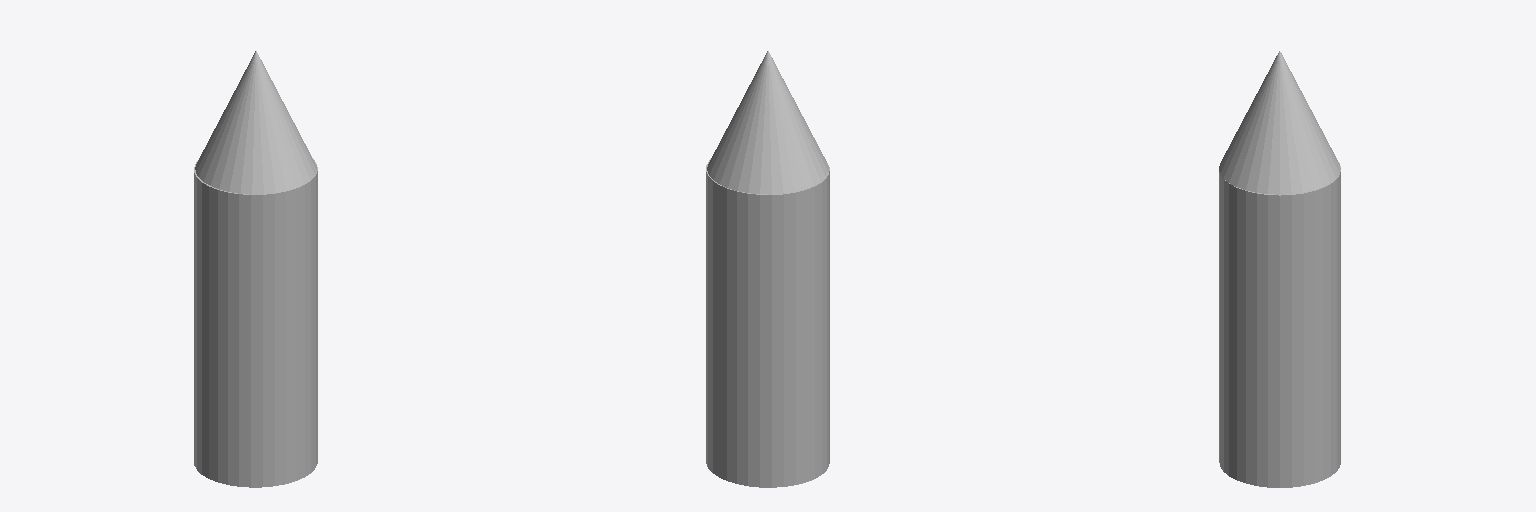
Rendered from bullet.obj.
3 renders of one model, left to right at view 1: azimuth 30°, elevation 25°; view 2: azimuth 150°, elevation 25°; view 3: azimuth 270°, elevation 25°, orthographic.
Visible parts, largest first — view 1: Cylinder, Cone; view 2: Cylinder, Cone; view 3: Cylinder, Cone.
Boxes of the visible parts, x1=… form: Cylinder: x1=194, y1=159, x2=317, y2=487; Cone: x1=195, y1=51, x2=316, y2=194; Cylinder: x1=706, y1=159, x2=829, y2=487; Cone: x1=707, y1=51, x2=828, y2=194; Cylinder: x1=1219, y1=163, x2=1340, y2=487; Cone: x1=1219, y1=51, x2=1340, y2=194.
Size of the model in its own units: 1.18 by 4.31 by 1.16.